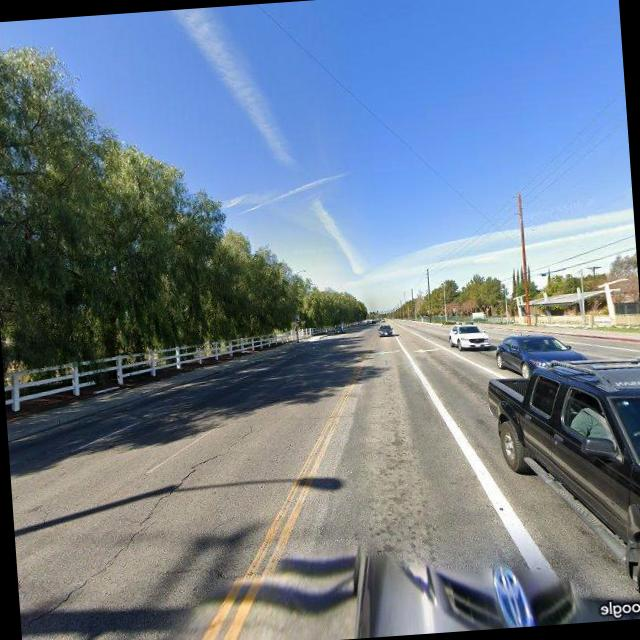crack: (17, 420, 268, 622), (144, 552, 278, 586)
